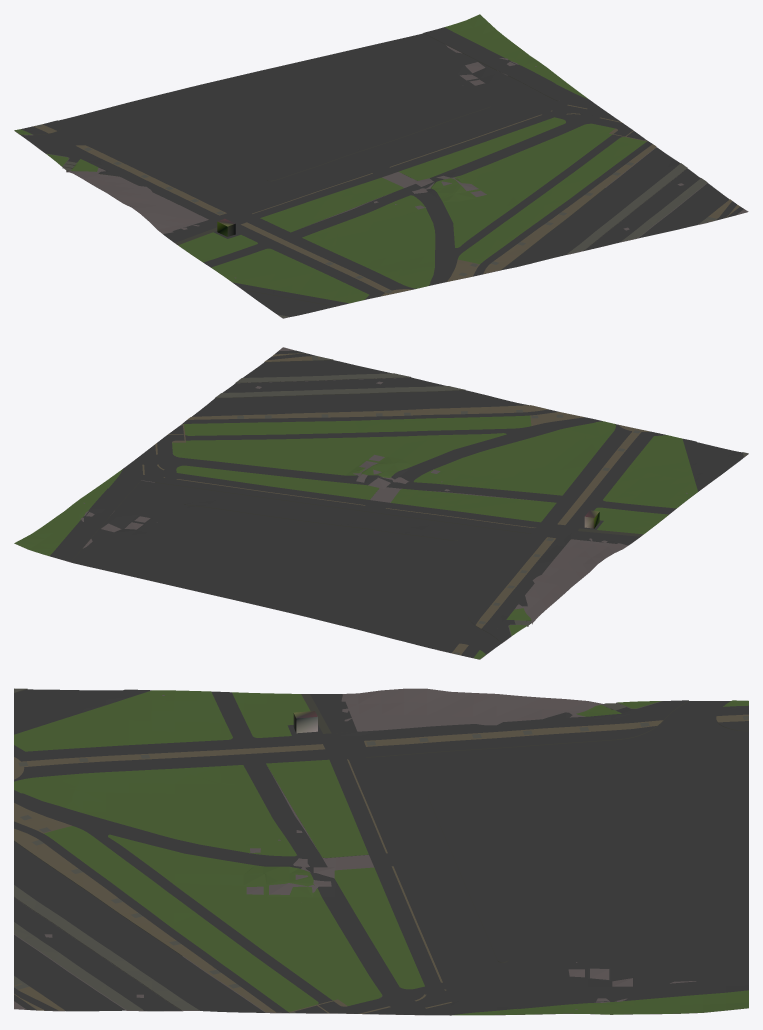
3 renders of one model, top to bottom at view 1: azimuth 30°, elevation 25°; view 2: azimuth 150°, elevation 25°; view 3: azimuth 270°, elevation 25°, orthographic. The views are drawn at different scales.
Parts seen in each view (by area): view 1: c_m11_m12; view 2: c_m11_m12; view 3: c_m11_m12.
Boxes of the visible parts, bbox=[...] form: c_m11_m12: bbox=[14, 14, 748, 318]; c_m11_m12: bbox=[14, 347, 748, 659]; c_m11_m12: bbox=[14, 688, 748, 1015].
Bounding box in the file's own units: 128 × 5.41 × 128.
